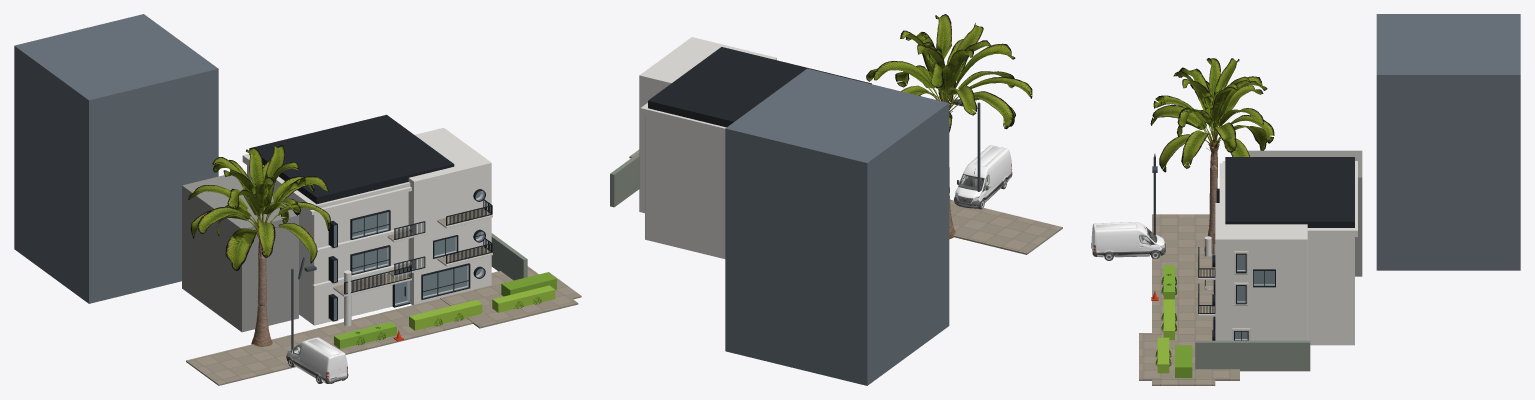
File: building_refined.glb
3 renders of one model, left to right at view 1: azimuth 30°, elevation 25°; view 2: azimuth 150°, elevation 25°; view 3: azimuth 270°, elevation 25°, orthographic. The views are drawn at different scales.
Visible parts, largest first — view 1: Preserved_primitive-base-mesh.007, Preserved_primitive-base-mesh.006, Preserved_primitive-base-mesh.013, Right_Wing_Mass, Preserved_tripo_node_40f33689-19e3-4f47-af31-3b40153ef03f, Main_Building_Mass, Preserved_primitive-base-mesh.009, Preserved_primitive-base-mesh.010, Preserved_tripo_node_2564325a-fb35-49d2-8a94-c82f8eb06e11, Preserved_primitive-base-mesh.025, Preserved_primitive-base-mesh.008, Ground_Front_Glazing_Glass (+11 smaller); view 2: Preserved_primitive-base-mesh.007, Main_Building_Mass, Preserved_primitive-base-mesh.013, Preserved_tripo_node_40f33689-19e3-4f47-af31-3b40153ef03f, Preserved_primitive-base-mesh.009, Right_Wing_Mass, Preserved_tripo_node_2564325a-fb35-49d2-8a94-c82f8eb06e11, Preserved_primitive-base-mesh.008, Preserved_primitive-base-mesh.002; view 3: Preserved_primitive-base-mesh.007, Right_Wing_Mass, Preserved_primitive-base-mesh.013, Preserved_tripo_node_40f33689-19e3-4f47-af31-3b40153ef03f, Preserved_primitive-base-mesh.009, Main_Building_Mass, Preserved_primitive-base-mesh.008, Preserved_tripo_node_2564325a-fb35-49d2-8a94-c82f8eb06e11, Preserved_primitive-base-mesh.010, Preserved_primitive-base-mesh.006, Preserved_primitive-base-mesh.002, Preserved_primitive-base-mesh.023 (+3 smaller).
Boxes of the visible parts, bbox=[...] form: Preserved_primitive-base-mesh.007: bbox=[14, 14, 218, 303]; Preserved_primitive-base-mesh.006: bbox=[182, 175, 298, 332]; Preserved_primitive-base-mesh.013: bbox=[249, 114, 454, 204]; Right_Wing_Mass: bbox=[407, 127, 491, 304]; Preserved_tripo_node_40f33689-19e3-4f47-af31-3b40153ef03f: bbox=[188, 145, 330, 346]; Main_Building_Mass: bbox=[247, 165, 408, 325]; Preserved_primitive-base-mesh.009: bbox=[186, 272, 581, 385]; Preserved_primitive-base-mesh.010: bbox=[440, 266, 578, 328]; Preserved_tripo_node_2564325a-fb35-49d2-8a94-c82f8eb06e11: bbox=[286, 337, 348, 383]; Preserved_primitive-base-mesh.025: bbox=[409, 300, 482, 330]; Preserved_primitive-base-mesh.008: bbox=[491, 233, 527, 280]; Ground_Front_Glazing_Glass: bbox=[423, 265, 468, 298]; Preserved_primitive-base-mesh.007: bbox=[725, 68, 949, 385]; Main_Building_Mass: bbox=[645, 116, 725, 258]; Preserved_primitive-base-mesh.013: bbox=[648, 47, 871, 127]; Preserved_tripo_node_40f33689-19e3-4f47-af31-3b40153ef03f: bbox=[866, 14, 1032, 239]; Preserved_primitive-base-mesh.009: bbox=[629, 149, 1062, 254]; Right_Wing_Mass: bbox=[639, 37, 776, 213]; Preserved_tripo_node_2564325a-fb35-49d2-8a94-c82f8eb06e11: bbox=[954, 145, 1012, 209]; Preserved_primitive-base-mesh.008: bbox=[610, 152, 639, 207]; Preserved_primitive-base-mesh.002: bbox=[640, 103, 726, 135]; Preserved_primitive-base-mesh.007: bbox=[1376, 14, 1520, 270]; Right_Wing_Mass: bbox=[1215, 203, 1307, 340]; Preserved_primitive-base-mesh.013: bbox=[1225, 157, 1354, 227]; Preserved_tripo_node_40f33689-19e3-4f47-af31-3b40153ef03f: bbox=[1150, 58, 1274, 253]; Preserved_primitive-base-mesh.009: bbox=[1152, 214, 1215, 385]; Main_Building_Mass: bbox=[1307, 237, 1354, 345]; Preserved_primitive-base-mesh.008: bbox=[1195, 340, 1310, 371]; Preserved_tripo_node_2564325a-fb35-49d2-8a94-c82f8eb06e11: bbox=[1091, 222, 1165, 260]; Preserved_primitive-base-mesh.010: bbox=[1139, 333, 1239, 380]; Preserved_primitive-base-mesh.006: bbox=[1248, 150, 1362, 276]; Preserved_primitive-base-mesh.002: bbox=[1222, 161, 1357, 236]; Preserved_primitive-base-mesh.023: bbox=[1175, 345, 1192, 377].
Size of the model in its own units: 14.5 by 7.5 by 14.91.
22 materials, 5 textured.
